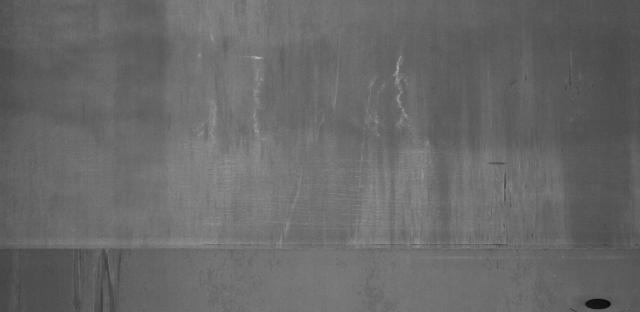punching_hole: (584, 296, 612, 312)
welding_line: (2, 232, 638, 263)
